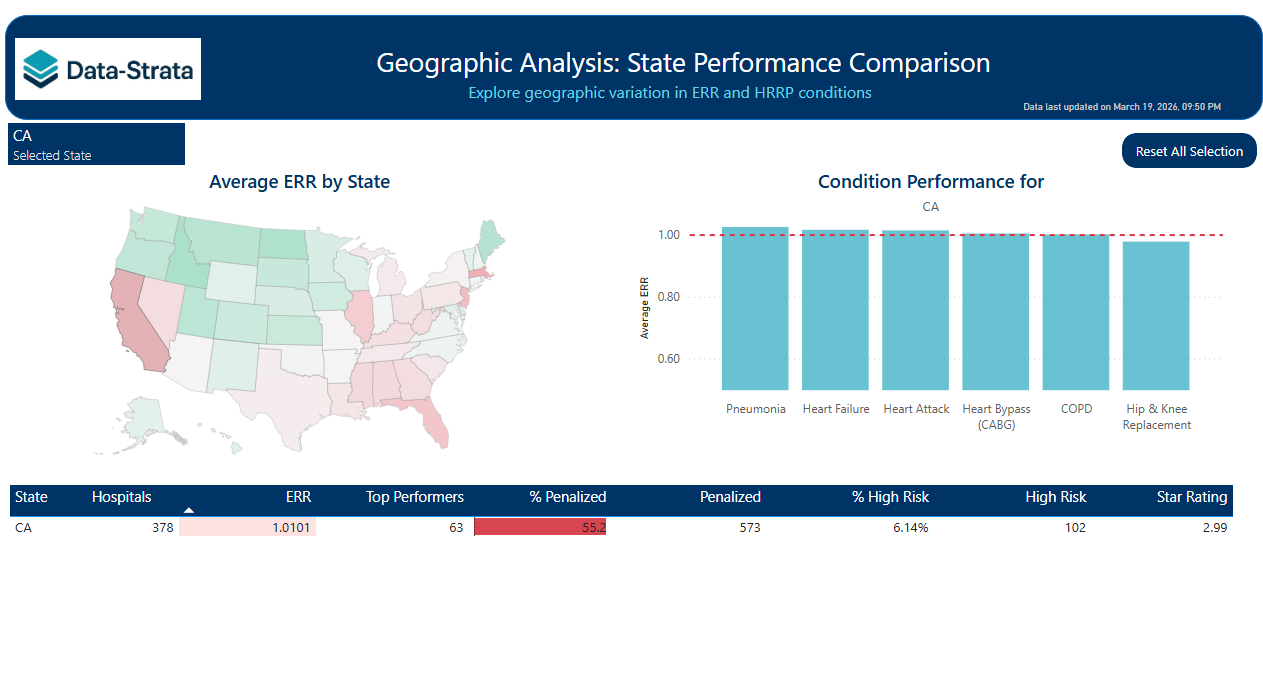

The dashboard page shown, as its layout file describes it:
{"tool":"powerbi","page":{"name":"Geographic Analysis","canvas":[1280,720],"ordinal":2},"visuals":[{"type":"group","id":"g1","title":"Group 2","box":[11,0,1258.3,141.8],"z":0},{"type":"group","id":"g2","title":"Group 1","box":[11,0,1258.3,141.8],"z":0,"group":"g1"},{"type":"shape","box":[11,17.1,1258.3,105.2],"z":0,"group":"g2"},{"type":"textbox","box":[360.8,40.2,656.9,57.8],"z":1000},{"type":"textbox","box":[412.7,78.4,526.5,43.1],"z":2000},{"type":"shapeMap","title":"Average ERR by State","fields":{"Category":["vw_state_performance.state"],"Value":["Avg(vw_state_performance.avg_err)"]},"box":[9.9,170.1,590.1,301.8],"z":3000},{"type":"clusteredColumnChart","title":"Condition Performance for","fields":{"Category":["vw_top_bottom_performers.condition_short"],"Y":["Avg(vw_top_bottom_performers.err)"]},"box":[640.3,170.1,593.7,270.4],"z":4000},{"type":"tableEx","fields":{"Values":["vw_state_performance.state","vw_state_performance.total_hospitals","vw_state_performance.avg_err","vw_state_performance.top_performer_measures","vw_state_performance.pct_penalized","vw_state_performance.penalized_measures","_Measures.Pct High Risk","vw_state_performance.high_risk_measures","vw_state_performance.avg_star_rating"]},"box":[9.9,481.8,1249.3,238.2],"z":5000},{"type":"cardVisual","fields":{"Data":["_Measures.Selected State"]},"box":[10.7,121.8,183.6,48.4],"z":6000},{"type":"image","box":[20.8,0,185.9,141.8],"z":7000,"group":"g2"},{"type":"actionButton","title":"Reset ","box":[1128.4,135.2,134.3,34.9],"z":7000},{"type":"card","fields":{"Values":["_Measures.Last Refresh"]},"box":[996.7,99.4,262.4,22.4],"z":15000,"group":"g1"}]}

Visuals, with their boxes in screenshot pixels (x1, y1, x2, y2), scaled from the page's 1280x720 canvas onto the 1263x698 screenshot:
"Group 2" group: bbox=(11, 0, 1252, 137)
"Group 1" group: bbox=(11, 0, 1252, 137)
shape: bbox=(11, 17, 1252, 119)
textbox: bbox=(356, 39, 1004, 95)
textbox: bbox=(407, 76, 927, 118)
"Average ERR by State" shapeMap: bbox=(10, 165, 592, 457)
"Condition Performance for" clusteredColumnChart: bbox=(632, 165, 1218, 427)
tableEx - vw_state_performance.state x vw_state_performance.total_hospitals: bbox=(10, 467, 1242, 697)
cardVisual - _Measures.Selected State: bbox=(11, 118, 192, 165)
image: bbox=(21, 0, 204, 137)
"Reset " actionButton: bbox=(1113, 131, 1246, 165)
card - _Measures.Last Refresh: bbox=(983, 96, 1242, 118)
